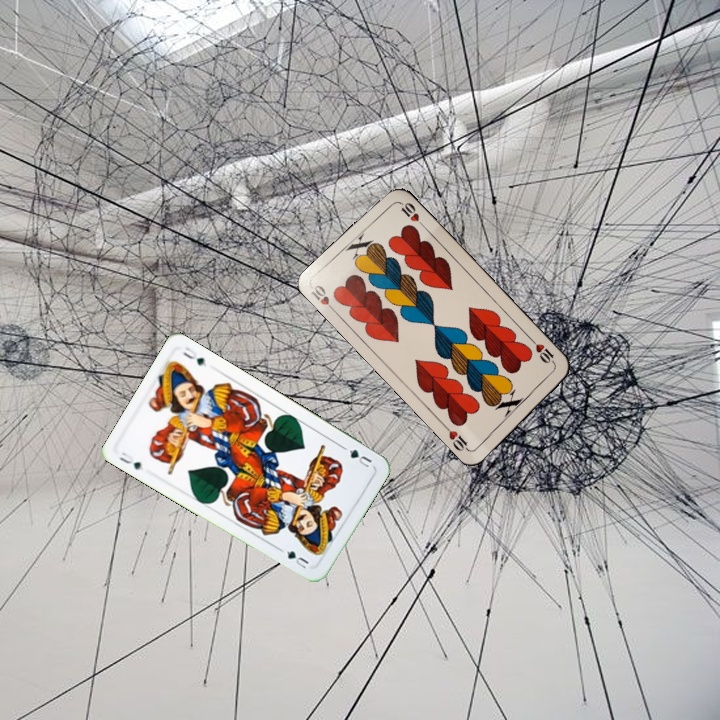GU: (339, 443, 374, 470), (115, 448, 146, 473)
H10: (307, 280, 339, 316), (527, 335, 558, 368)
